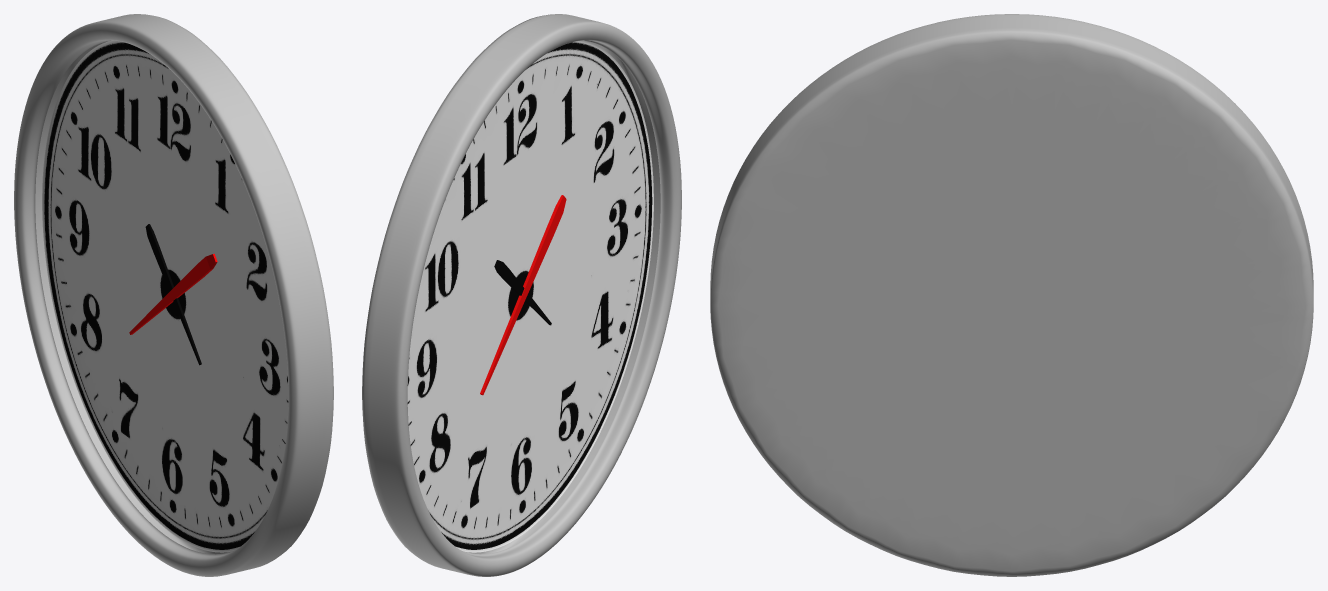
The model's file is wall_watch.glb.
3 renders of one model, left to right at view 1: azimuth 30°, elevation 25°; view 2: azimuth 150°, elevation 25°; view 3: azimuth 270°, elevation 25°, orthographic. The views are drawn at different scales.
Parts seen in each view (by area): view 1: Cube.001; view 2: Cube.001; view 3: Cube.001.
Boxes of the visible parts, bbox=[...] form: Cube.001: bbox=[14, 14, 333, 576]; Cube.001: bbox=[362, 14, 681, 576]; Cube.001: bbox=[710, 14, 1313, 576].
Size of the model in its own units: 5792 by 65133 by 65115.
Materials: 4 (1 with a texture image).
